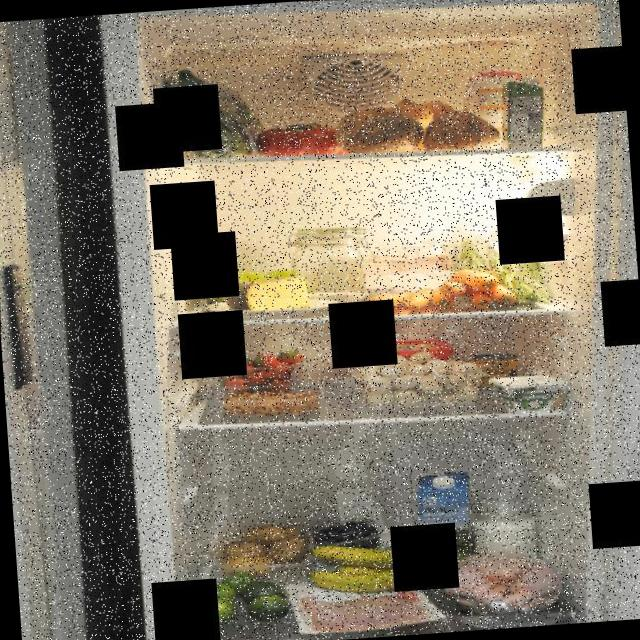Carne cerdo: (302, 580, 429, 636)
Carne pollo: (428, 538, 572, 626)
Cebolla: (381, 91, 459, 131)
Champiñones: (346, 343, 482, 415)
Gambas/Langostinos: (214, 383, 324, 421)
Leche: (410, 466, 482, 574)
Mantequilla: (354, 332, 454, 375)
Manzana: (195, 264, 312, 308)
Patata: (216, 512, 313, 580)
Plátano: (314, 530, 440, 598)
Queso: (224, 269, 312, 313)
Tomate: (250, 114, 354, 160)
Zanahoria: (433, 263, 516, 315), (362, 286, 436, 316)
